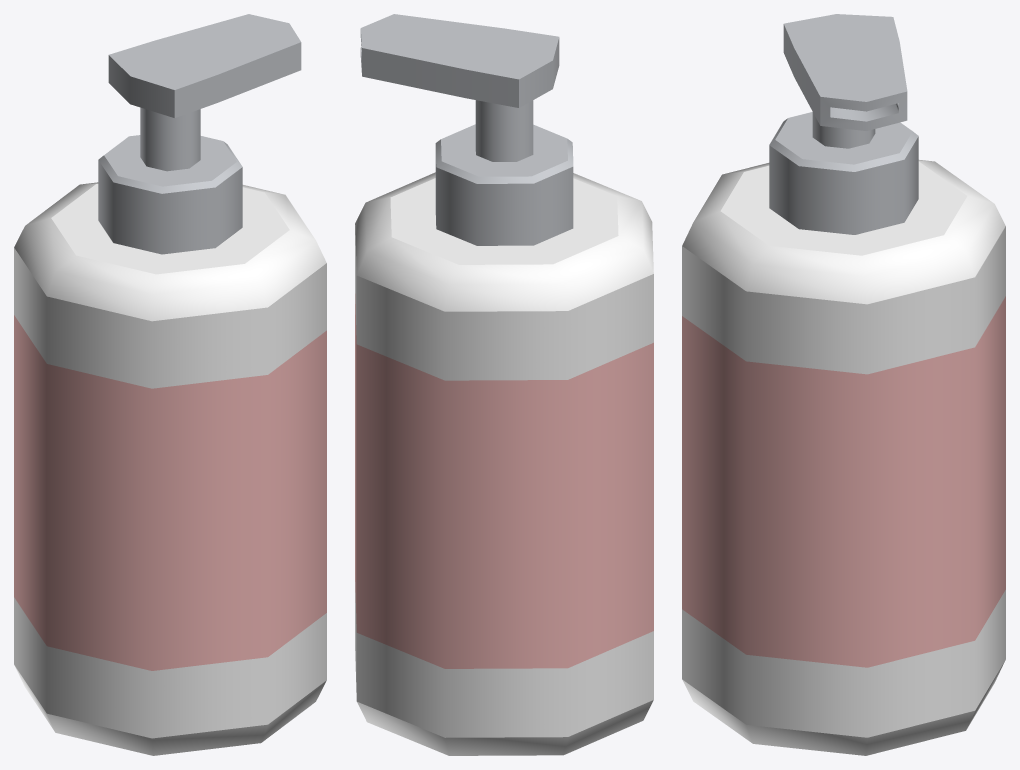
Rendered from Soap.fbx.
The picture shows the model from 3 angles, left to right: view 1: azimuth 30°, elevation 25°; view 2: azimuth 150°, elevation 25°; view 3: azimuth 270°, elevation 25°; orthographic projection. The views are drawn at different scales.
Visible parts, largest first — view 1: Soap; view 2: Soap; view 3: Soap.
Boxes of the visible parts, x1,y1,x2,y2 form: Soap: [14, 14, 326, 755]; Soap: [355, 14, 653, 755]; Soap: [682, 14, 1005, 755].
Bounding box in the file's own units: 0.0815 × 0.1848 × 0.0815.
